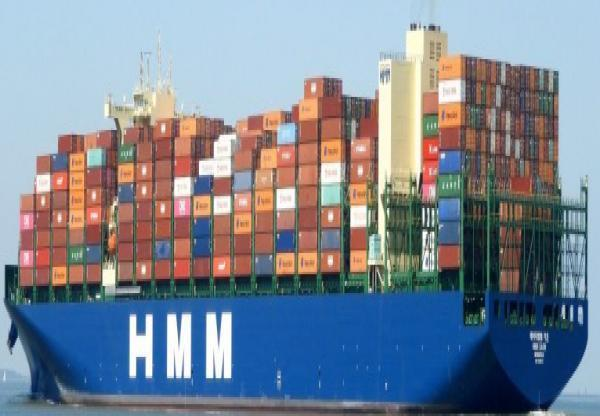Container Ship: (3, 20, 590, 413)
